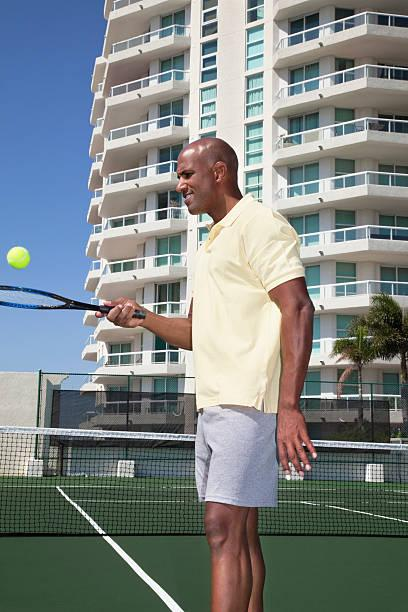ball_tennis: (7, 246, 30, 271)
